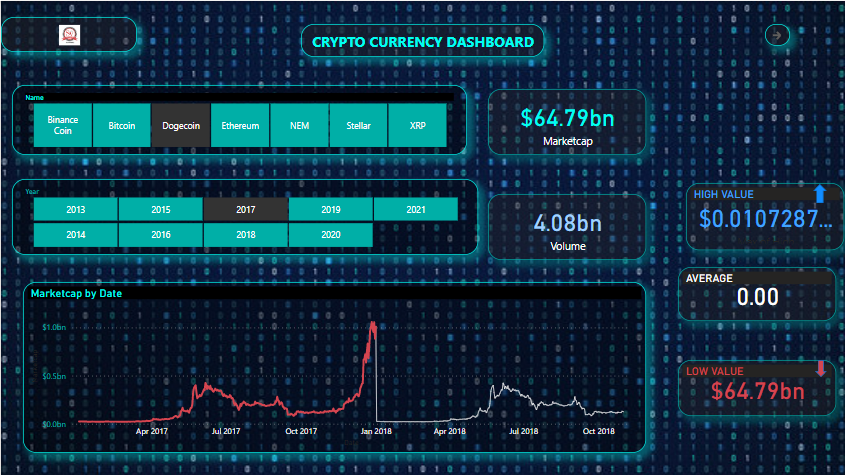

Layout of this report page (visuals, bound fields, positions):
{"tool":"powerbi","page":{"name":"Crypto Summary","canvas":[1280,720],"ordinal":0},"visuals":[{"type":"slicer","fields":{"Values":["Crypto_data.Name"]},"box":[0,127.4,628.4,101.6],"z":0},{"type":"slicer","fields":{"Values":["Crypto_data.Year"]},"box":[652.1,127.4,627.9,112.2],"z":1000},{"type":"lineChart","fields":{"Y":["Sum(Crypto_data.Marketcap)"],"Category":["Crypto_data.Date"]},"box":[30.1,420.8,1198.1,272],"z":2000},{"type":"shape","box":[0,0,1280,113.7],"z":4062},{"type":"textbox","box":[391.3,24.3,497.4,66.7],"z":4093},{"type":"actionButton","box":[1228.4,28.8,37.9,33.4],"z":4125},{"type":"image","box":[16.7,13.6,66.7,63.7],"z":4250},{"type":"card","title":"Market Cap","fields":{"Values":["Sum(Crypto_data.Marketcap)"]},"box":[16.7,283.6,227.5,100.1],"z":6000},{"type":"card","title":"Volume","fields":{"Values":["Sum(Crypto_data.Volume)"]},"box":[268.4,288.2,219.9,98.6],"z":7000},{"type":"card","title":"LOW VALUE","fields":{"Values":["Sum(Crypto_data.Marketcap)"]},"box":[1007,283.6,221.4,103.1],"z":8000},{"type":"card","title":"AVERAGE","fields":{"Values":["Avg(Crypto_data.AVG)"]},"box":[755.3,286.6,222.9,103.1],"z":9000},{"type":"card","title":"HIGH VALUE","fields":{"Values":["Max(Crypto_data.High)"]},"box":[506.5,288.2,227.5,101.6],"z":10000},{"type":"shape","box":[697.6,288.2,21.2,28.8],"z":11000},{"type":"shape","box":[1199.6,289.7,18.2,25.8],"z":12000}]}

Visuals, with their boxes in screenshot pixels (x1, y1, x2, y2), scaled from the page's 1280x720 canvas onto the 845x475 screenshot:
slicer - Crypto_data.Name: 0:84:415:151
slicer - Crypto_data.Year: 430:84:844:158
lineChart - Sum(Crypto_data.Marketcap) x Crypto_data.Date: 20:278:811:457
shape: 0:0:844:75
textbox: 258:16:587:60
actionButton: 811:19:836:41
image: 11:9:55:51
"Market Cap" card: 11:187:161:253
"Volume" card: 177:190:322:255
"LOW VALUE" card: 665:187:811:255
"AVERAGE" card: 499:189:646:257
"HIGH VALUE" card: 334:190:485:257
shape: 461:190:475:209
shape: 792:191:804:208
